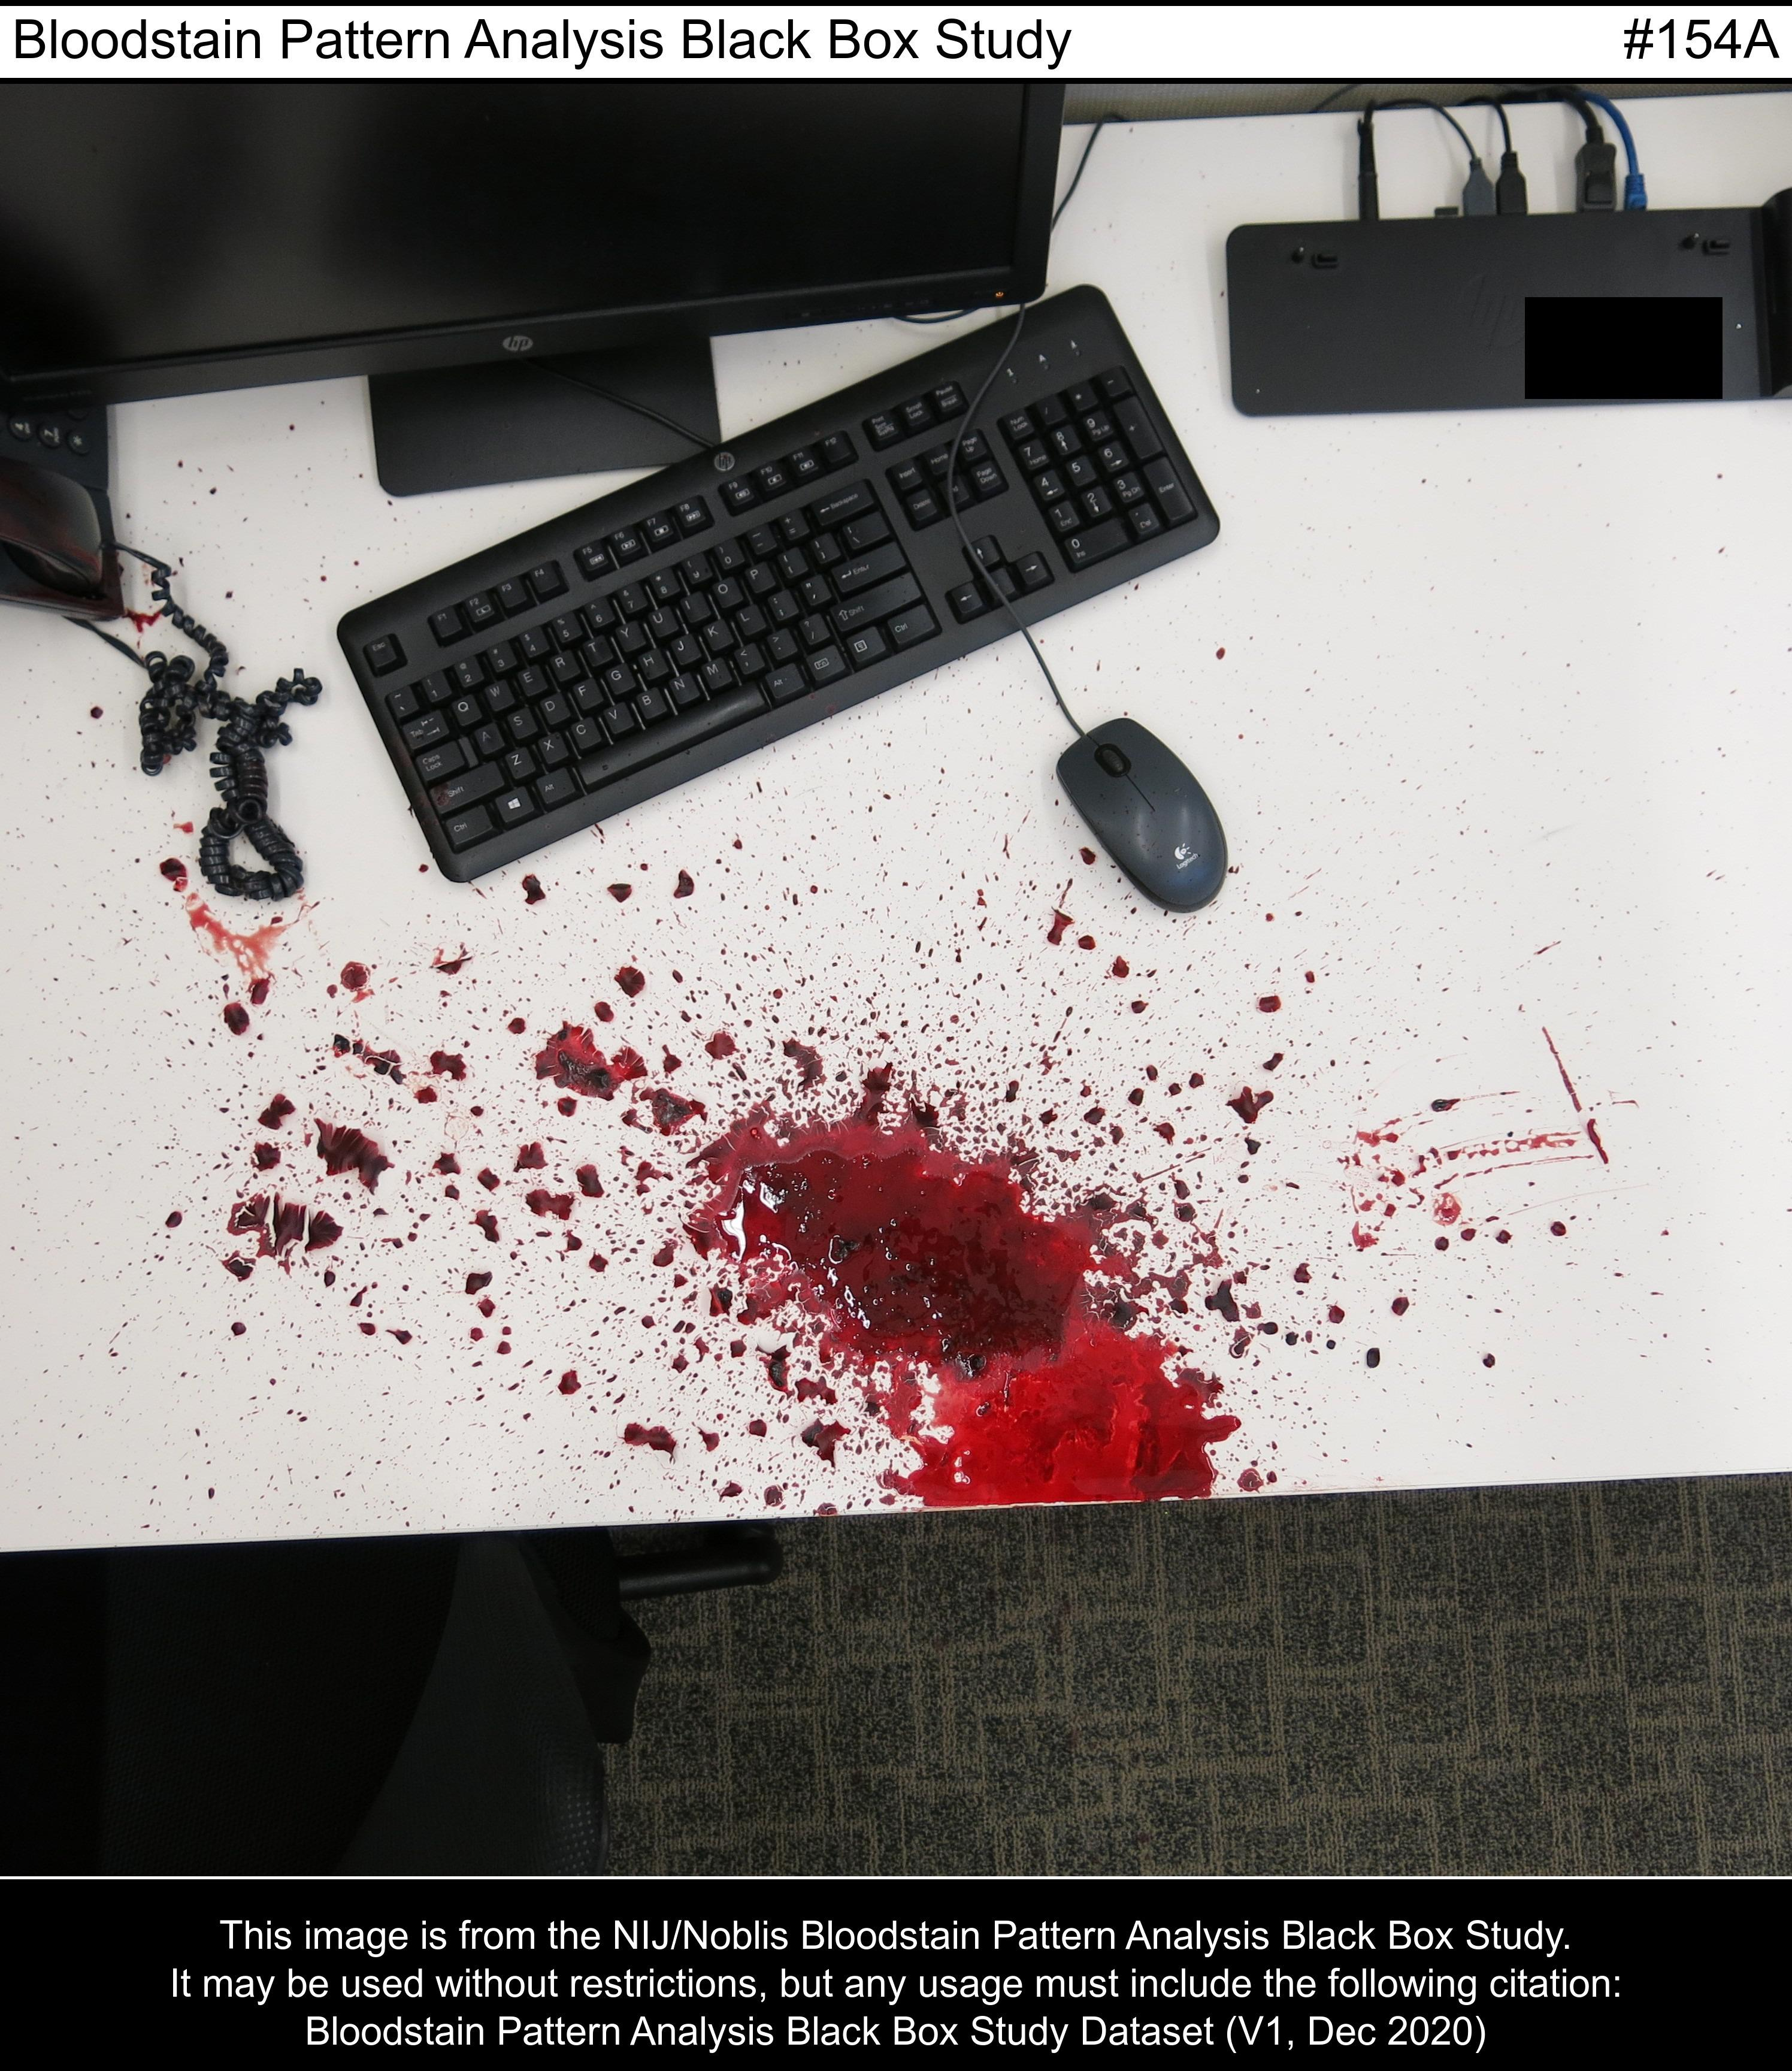Passive: (95, 815, 1656, 1522)
Transfer: (0, 447, 180, 645)
